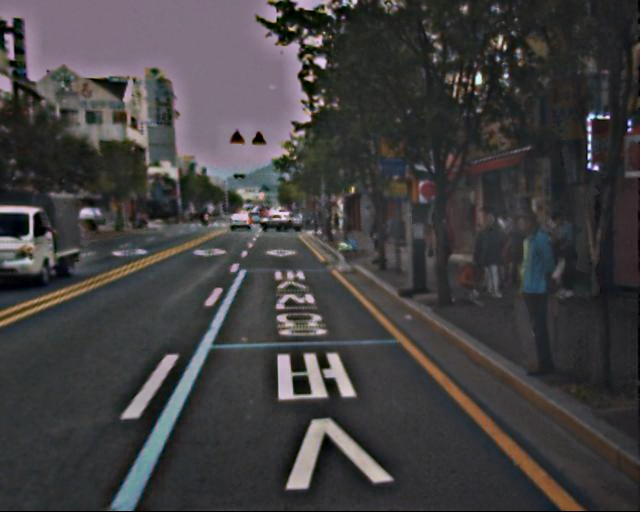person: (489, 209, 571, 378), (539, 210, 579, 296), (470, 208, 507, 298), (370, 213, 384, 251)
